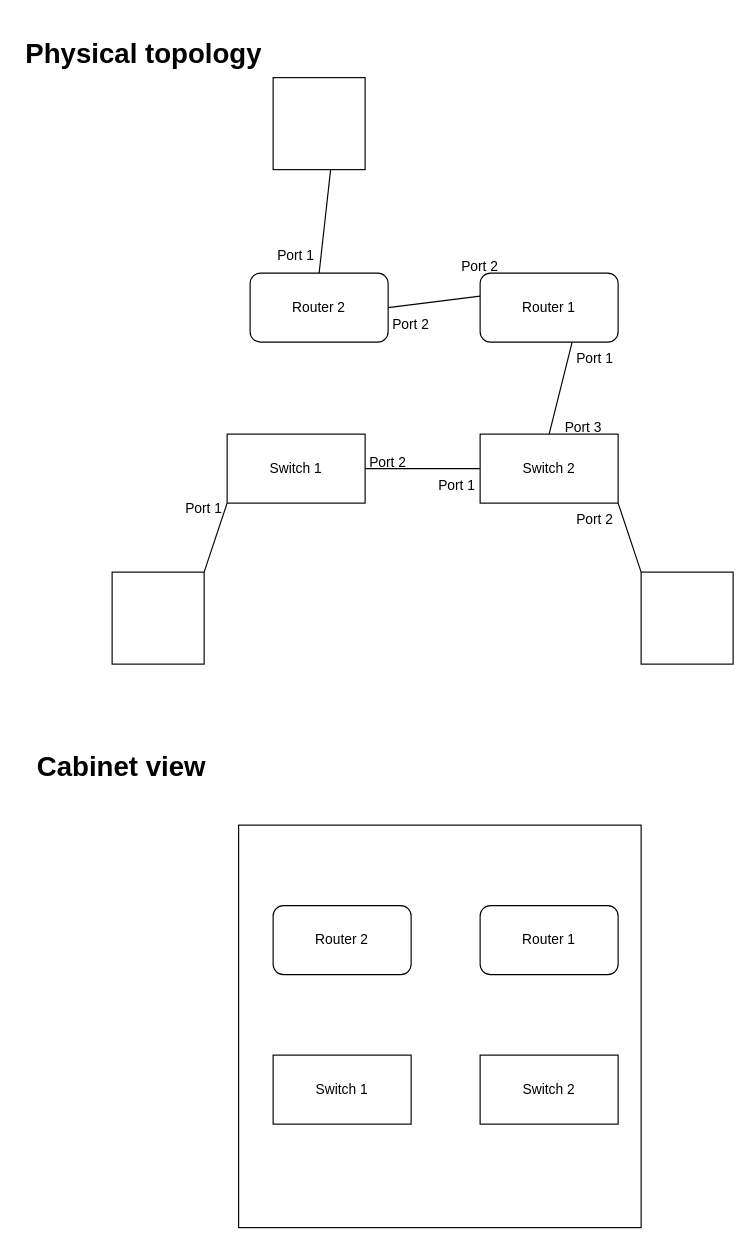
The diagram is 753 pixels wide and 1248 high, and some of its shapes have lost their labels. The shapes that lost their labels are listed below. From the top down, each one's centre as x and y in pixels, then its label:
At pixel 318 123: "Lubuntu 3".
At pixel 157 617: "Lubuntu 1".
At pixel 686 617: "Lubuntu 2".
